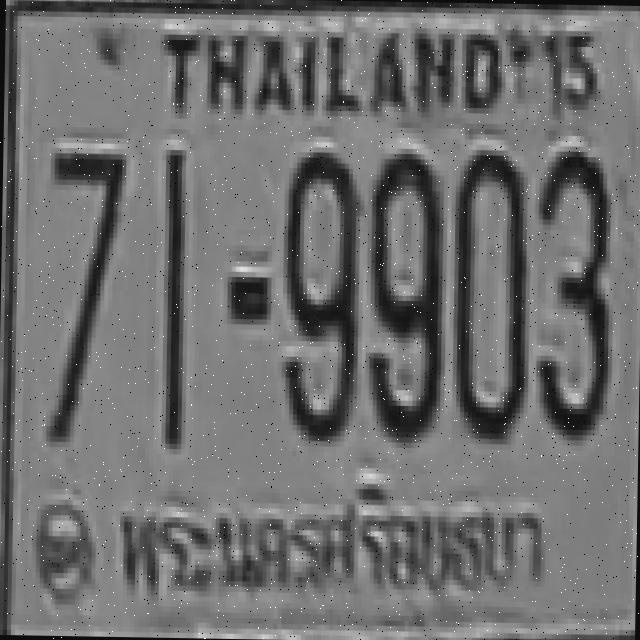0: (447, 146, 528, 436), (282, 146, 357, 331), (366, 148, 440, 328)
1: (158, 144, 186, 402)
3: (530, 146, 612, 436)
7: (46, 148, 122, 426), (47, 148, 122, 364), (48, 148, 122, 332)
9: (278, 146, 359, 436), (364, 148, 441, 438)
Ayutthaya: (98, 466, 562, 622)
